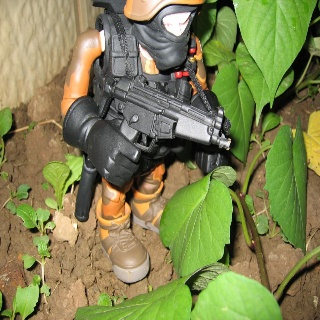rifle: (74, 55, 230, 221)
